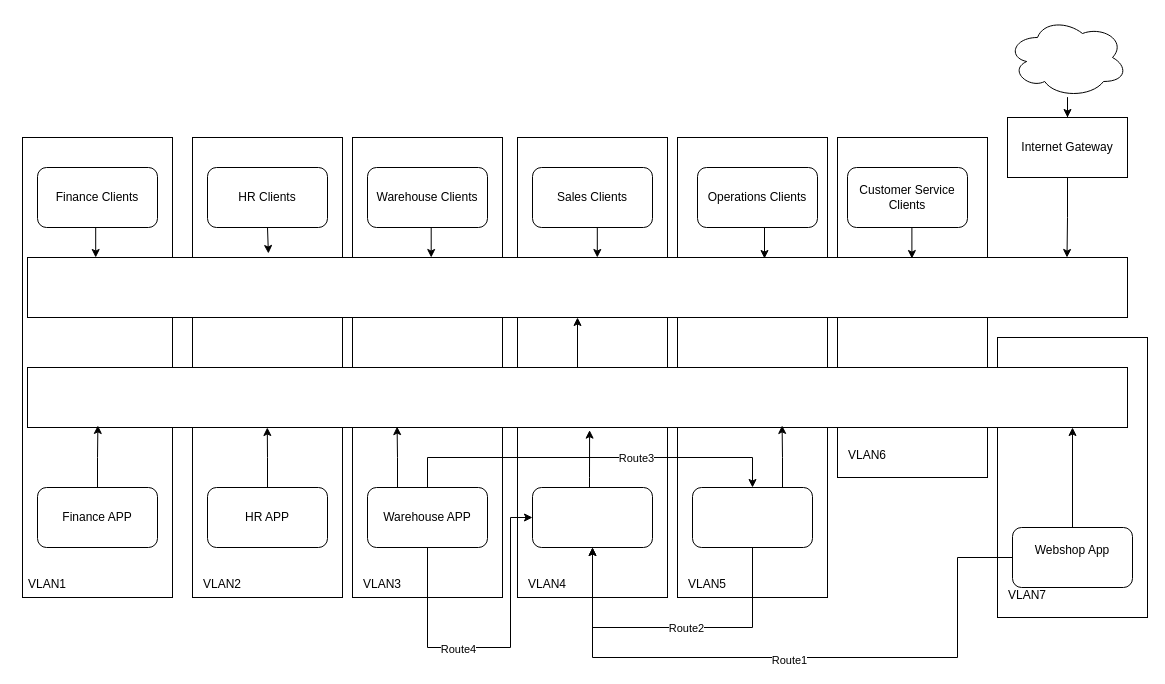
Image size: 1165x684. Some labels were removed from this diagram. Each missing label, with the centre of its shape:
CRM: the point at 592,517
Firewall: the point at 577,287
Internet: the point at 1067,57
Main Proxy: the point at 577,397
Operations APP: the point at 752,517
